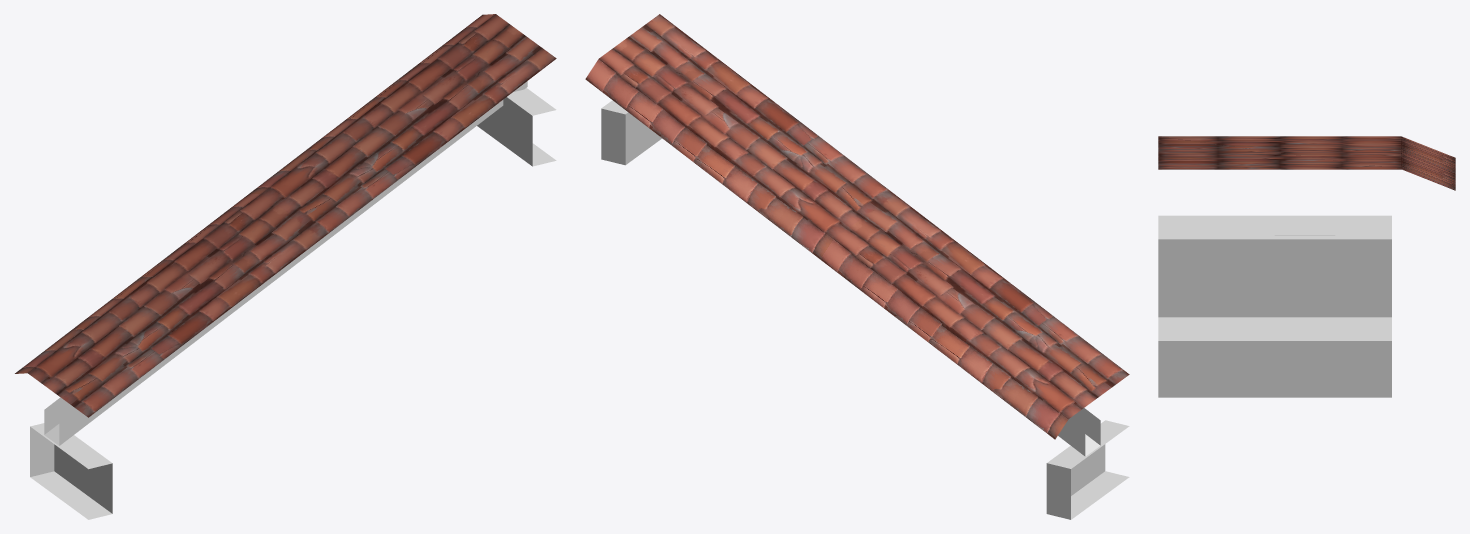
Rendered from WallKit_Verge_Right_LOD2.fbx.
The picture shows the model from 3 angles, left to right: view 1: azimuth 30°, elevation 25°; view 2: azimuth 150°, elevation 25°; view 3: azimuth 270°, elevation 25°; orthographic projection. The views are drawn at different scales.
Visible parts, largest first — view 1: WallKit_Verge_Right_LOD2; view 2: WallKit_Verge_Right_LOD2; view 3: WallKit_Verge_Right_LOD2.
Boxes of the visible parts, left/top/right/bottom form: WallKit_Verge_Right_LOD2: left=15, top=14, right=556, bottom=519; WallKit_Verge_Right_LOD2: left=585, top=14, right=1129, bottom=519; WallKit_Verge_Right_LOD2: left=1158, top=136, right=1455, bottom=397.
Size of the model in its own units: 400 by 283 by 110.
